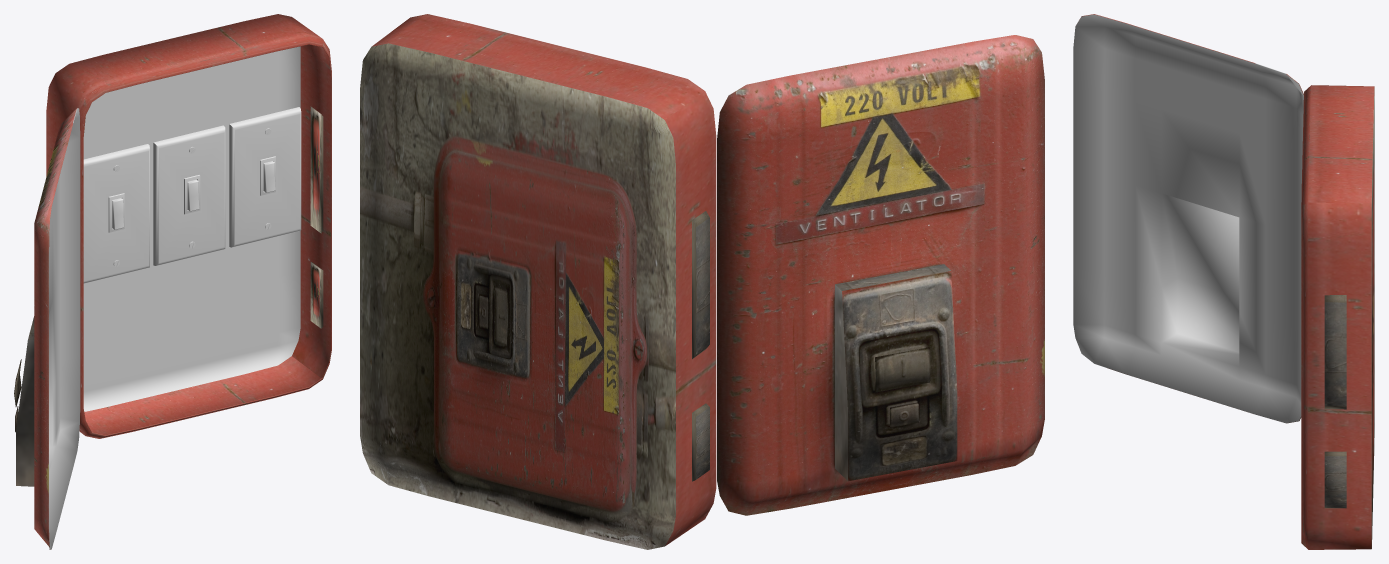
File: light switch panel mk 5.fbx
3 renders of one model, left to right at view 1: azimuth 30°, elevation 25°; view 2: azimuth 150°, elevation 25°; view 3: azimuth 270°, elevation 25°, orthographic. The views are drawn at different scales.
Visible parts, largest first — view 1: box, door, Plane.002, Plane.003, Plane.001; view 2: box, door; view 3: door, box.
Part boxes in pixels (x1=…): box: x1=46, y1=14, x2=331, y2=438; door: x1=14, y1=107, x2=80, y2=549; Plane.002: x1=153, y1=125, x2=225, y2=265; Plane.003: x1=229, y1=107, x2=301, y2=247; Plane.001: x1=83, y1=144, x2=149, y2=283; box: x1=360, y1=14, x2=716, y2=549; door: x1=717, y1=35, x2=1044, y2=515; door: x1=1073, y1=14, x2=1303, y2=423; box: x1=1301, y1=85, x2=1374, y2=549.
Size of the model in its own units: 806 by 679 by 512.
